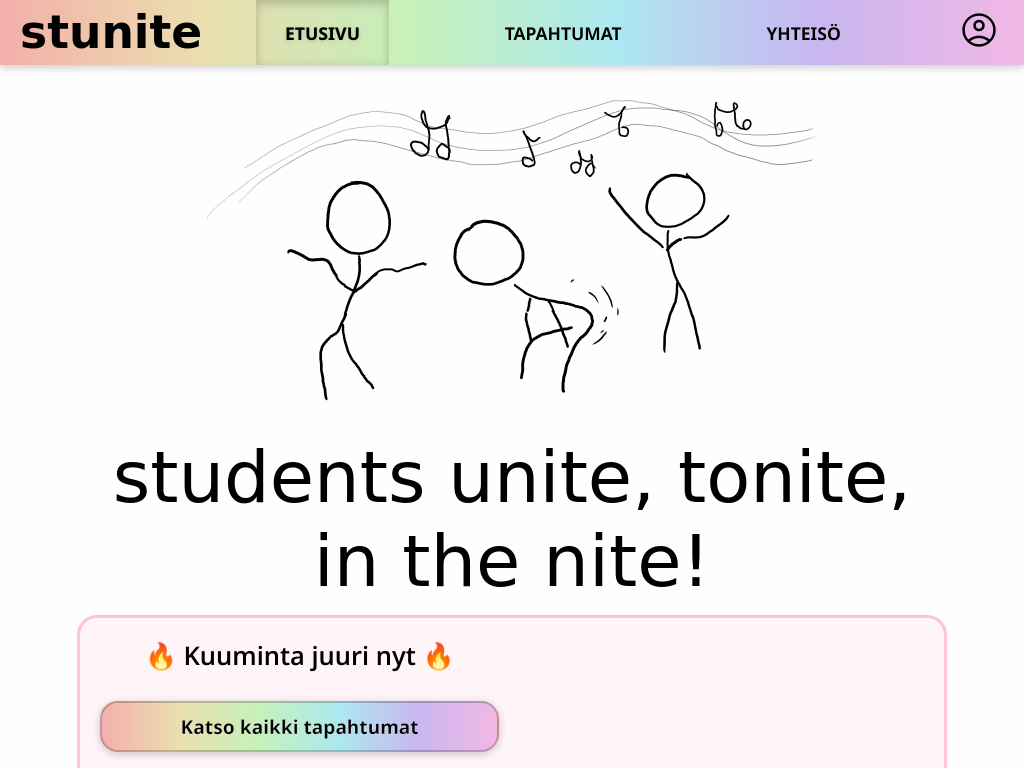
Test: Login Modal › should display error message for incorrect email or password
# open login modal
Click the text with class "material-symbols-outlined" at (979, 30), box 959,10 -> 999,50
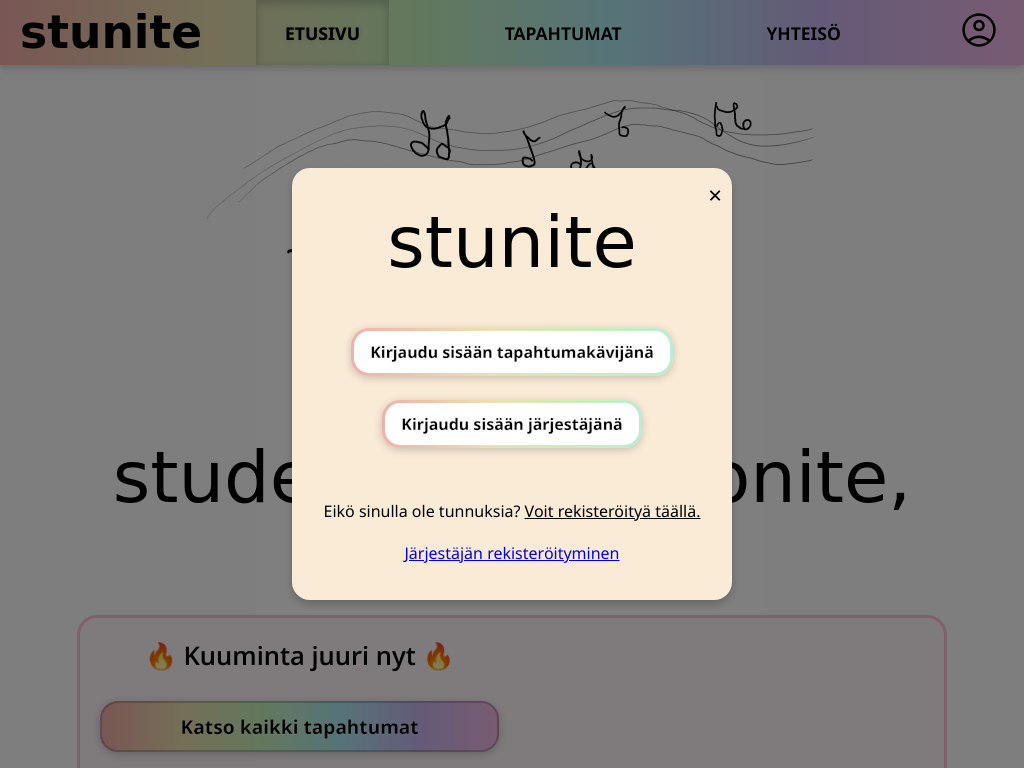
Check: the element with class "modal-content" is shown, box 292,168 -> 732,600
# click on the button for normal user login
Click the button "Kirjaudu sisään tapahtumakävijänä" at (512, 352), box 351,328 -> 673,376
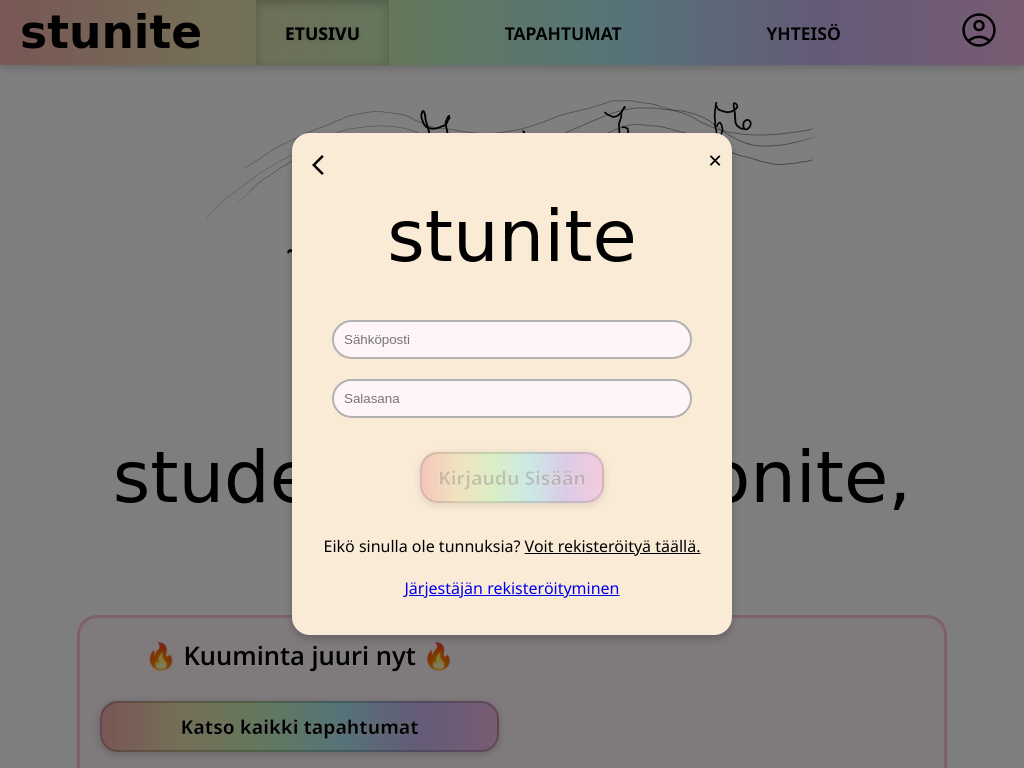
# type invalid email and password
Type "invalid-email@example.com" into the field with id "email" at (512, 340), box 332,320 -> 692,359
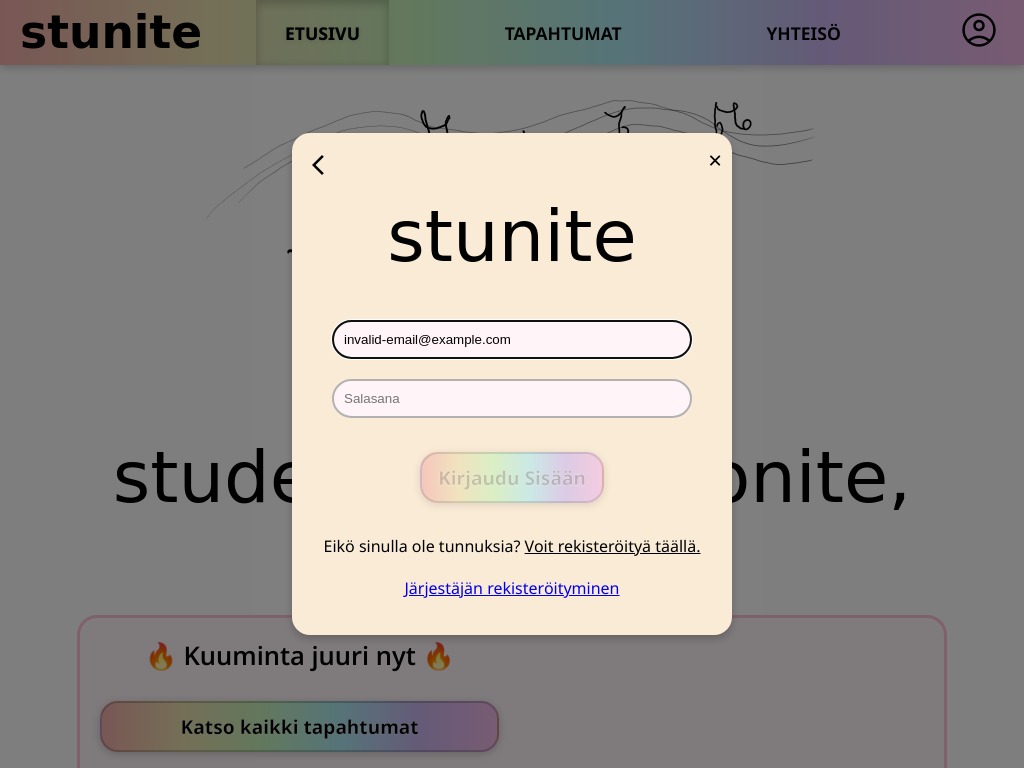
Type "wrongpassword" into the password field with placeholder "Salasana" at (512, 399), box 332,379 -> 692,418
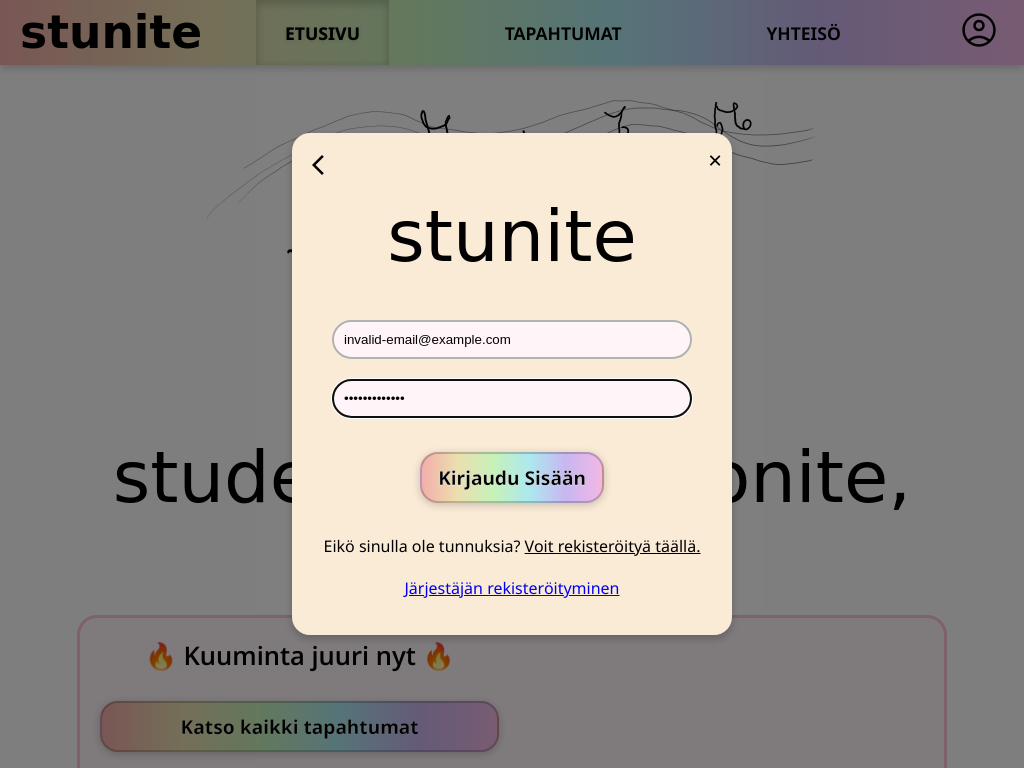
# submit the login form
Submit the form, box 344,310 -> 680,503
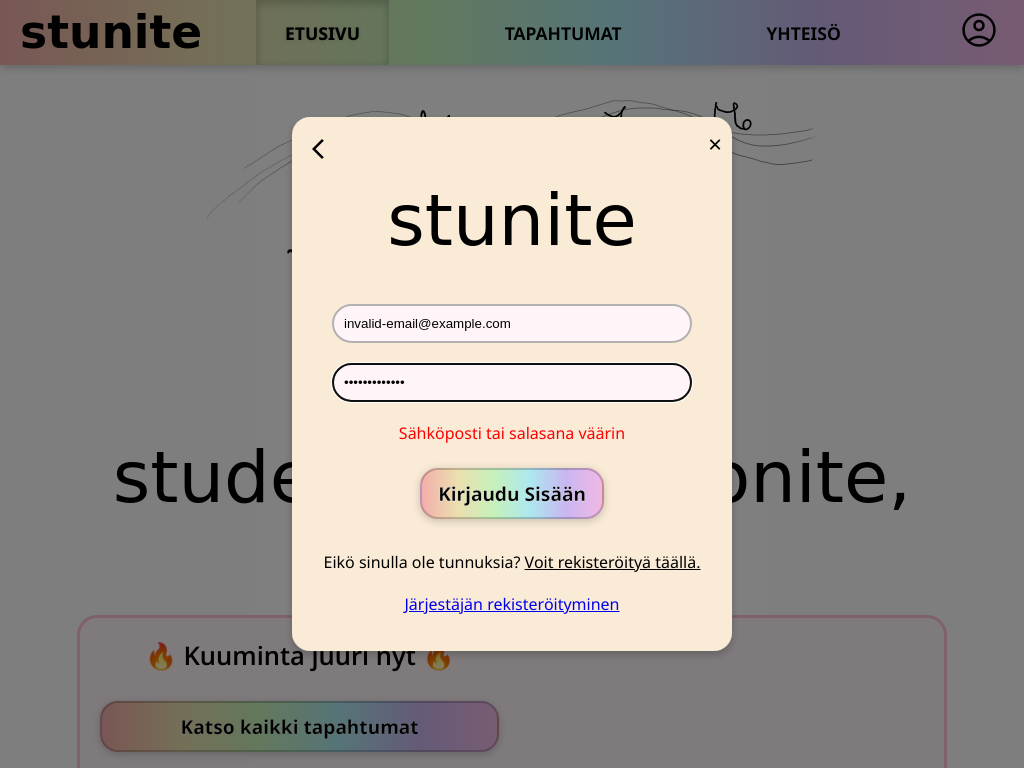
Check: the text with class "error-message" reads "Sähköposti tai salasana väärin", box 399,422 -> 625,444
